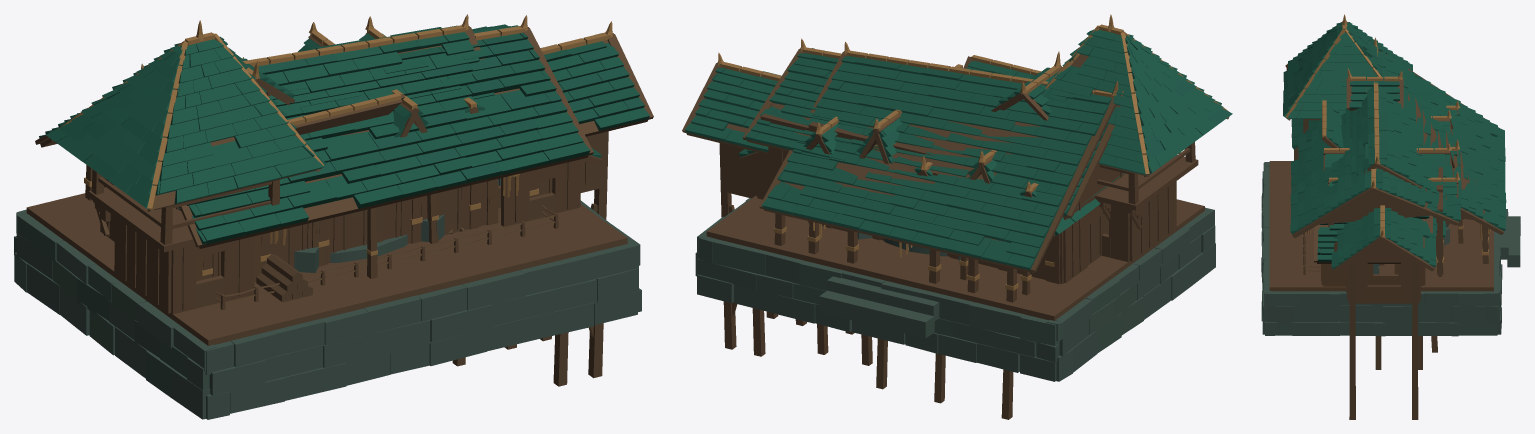
File: Windrift_Buildings.fbx
The picture shows the model from 3 angles, left to right: view 1: azimuth 30°, elevation 25°; view 2: azimuth 150°, elevation 25°; view 3: azimuth 270°, elevation 25°; orthographic projection. The views are drawn at different scales.
Visible parts, largest first — view 1: Windrift_Buildings_Hq__Stone, Windrift_Buildings_Hq__Timber, Windrift_Buildings_RainHall__Tile, Windrift_Buildings_Hq__Tile, Windrift_Buildings_Gallery__Timber, Windrift_Buildings_RainHall__Timber, Windrift_Buildings_Gallery__Tile, Windrift_Buildings_Hq__Bronze, Windrift_Buildings_HearthYard__Timber, Windrift_Buildings_StoneRing__Stone, Windrift_Buildings_RainHall__Bronze, Windrift_Buildings_Eyrie__Timber (+2 smaller); view 2: Windrift_Buildings_Hq__Tile, Windrift_Buildings_Hq__Stone, Windrift_Buildings_Hq__Timber, Windrift_Buildings_Gallery__Timber, Windrift_Buildings_Gallery__Tile, Windrift_Buildings_RainHall__Tile, Windrift_Buildings_RainHall__Timber, Windrift_Buildings_Hq__Bronze, Windrift_Buildings_Eyrie__Timber, Windrift_Buildings_Gallery__Bronze, Windrift_Buildings_RainHall__Bronze; view 3: Windrift_Buildings_Hq__Tile, Windrift_Buildings_Hq__Stone, Windrift_Buildings_Hq__Timber, Windrift_Buildings_RainHall__Tile, Windrift_Buildings_Gallery__Timber, Windrift_Buildings_Gallery__Tile, Windrift_Buildings_RainHall__Timber, Windrift_Buildings_Hq__Bronze, Windrift_Buildings_Gallery__Bronze, Windrift_Buildings_Eyrie__Timber, Windrift_Buildings_Eyrie__Tile, Windrift_Buildings_RainHall__Bronze.
Part boxes in pixels (left/top/right/bottom): Windrift_Buildings_Hq__Stone: left=14, top=178, right=641, bottom=419; Windrift_Buildings_Hq__Timber: left=26, top=26, right=627, bottom=345; Windrift_Buildings_RainHall__Tile: left=187, top=24, right=590, bottom=245; Windrift_Buildings_Hq__Tile: left=39, top=25, right=601, bottom=209; Windrift_Buildings_Gallery__Timber: left=112, top=33, right=653, bottom=386; Windrift_Buildings_RainHall__Timber: left=95, top=27, right=593, bottom=309; Windrift_Buildings_Gallery__Tile: left=178, top=33, right=649, bottom=209; Windrift_Buildings_Hq__Bronze: left=57, top=14, right=468, bottom=209; Windrift_Buildings_HearthYard__Timber: left=256, top=193, right=438, bottom=302; Windrift_Buildings_StoneRing__Stone: left=294, top=214, right=444, bottom=272; Windrift_Buildings_RainHall__Bronze: left=201, top=15, right=538, bottom=275; Windrift_Buildings_Eyrie__Timber: left=294, top=93, right=465, bottom=366; Windrift_Buildings_Hq__Tile: left=738, top=29, right=1232, bottom=270; Windrift_Buildings_Hq__Stone: left=695, top=198, right=1215, bottom=381; Windrift_Buildings_Hq__Timber: left=706, top=51, right=1229, bottom=320; Windrift_Buildings_Gallery__Timber: left=682, top=62, right=1108, bottom=356; Windrift_Buildings_Gallery__Tile: left=685, top=67, right=1124, bottom=235; Windrift_Buildings_RainHall__Tile: left=745, top=48, right=1108, bottom=215; Windrift_Buildings_RainHall__Timber: left=742, top=48, right=1180, bottom=295; Windrift_Buildings_Hq__Bronze: left=773, top=14, right=1228, bottom=290; Windrift_Buildings_Eyrie__Timber: left=817, top=56, right=1013, bottom=419; Windrift_Buildings_Gallery__Bronze: left=717, top=52, right=1038, bottom=192; Windrift_Buildings_RainHall__Bronze: left=800, top=38, right=1123, bottom=281; Windrift_Buildings_Hq__Tile: left=1283, top=22, right=1506, bottom=261; Windrift_Buildings_Hq__Stone: left=1261, top=162, right=1520, bottom=336; Windrift_Buildings_Hq__Timber: left=1269, top=40, right=1504, bottom=291; Windrift_Buildings_RainHall__Tile: left=1290, top=78, right=1460, bottom=234; Windrift_Buildings_Gallery__Timber: left=1323, top=109, right=1458, bottom=419; Windrift_Buildings_Gallery__Tile: left=1325, top=110, right=1457, bottom=269; Windrift_Buildings_RainHall__Timber: left=1292, top=78, right=1458, bottom=276; Windrift_Buildings_Hq__Bronze: left=1285, top=14, right=1490, bottom=255; Windrift_Buildings_Gallery__Bronze: left=1324, top=101, right=1460, bottom=237; Windrift_Buildings_Eyrie__Timber: left=1322, top=105, right=1443, bottom=369; Windrift_Buildings_Eyrie__Tile: left=1326, top=103, right=1445, bottom=237; Windrift_Buildings_RainHall__Bronze: left=1304, top=68, right=1443, bottom=262.
Size of the model in its own units: 46.98 by 37.6 by 31.14.
